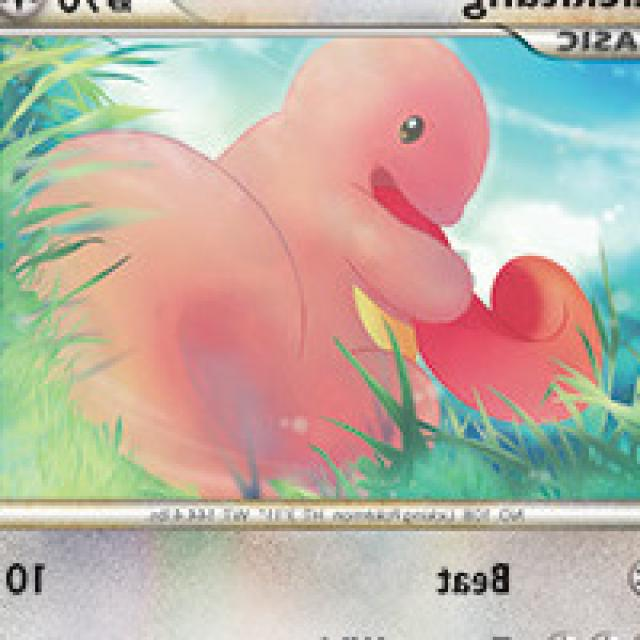Lickitung: (87, 35, 581, 475)
